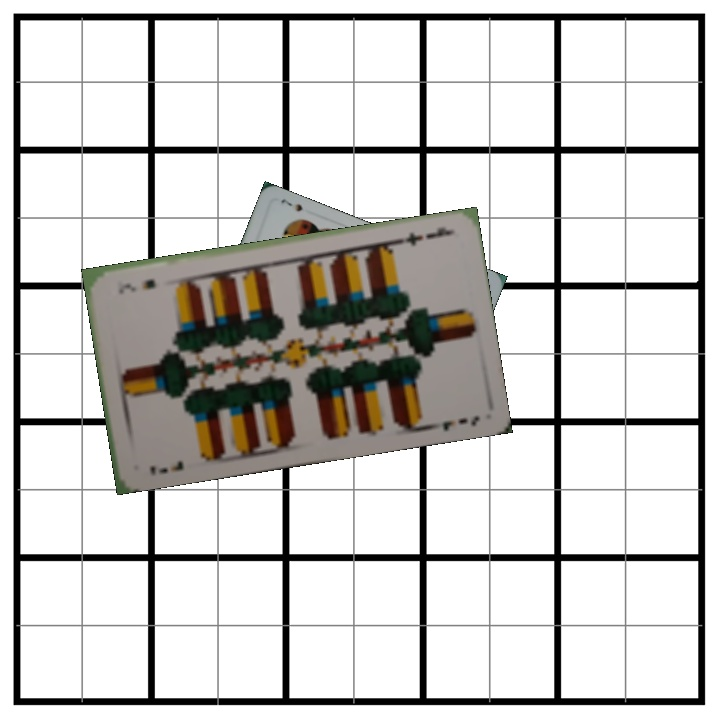E7: (395, 223, 454, 248), (146, 457, 186, 478)
